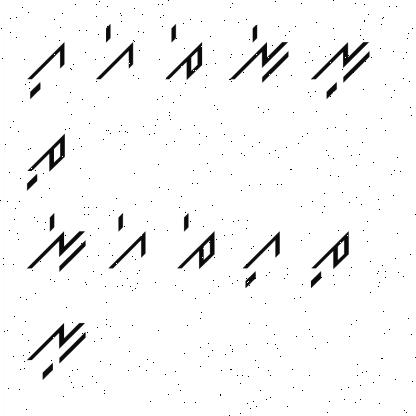ge: (103, 210, 149, 274), (95, 22, 140, 84)
gu: (232, 226, 286, 288), (18, 42, 74, 100)
nge: (226, 20, 291, 84), (25, 211, 87, 273)
ngu: (312, 34, 378, 102), (25, 315, 90, 382)
te: (154, 24, 210, 83), (172, 211, 220, 275)
tu: (18, 128, 70, 192), (304, 227, 354, 293)
